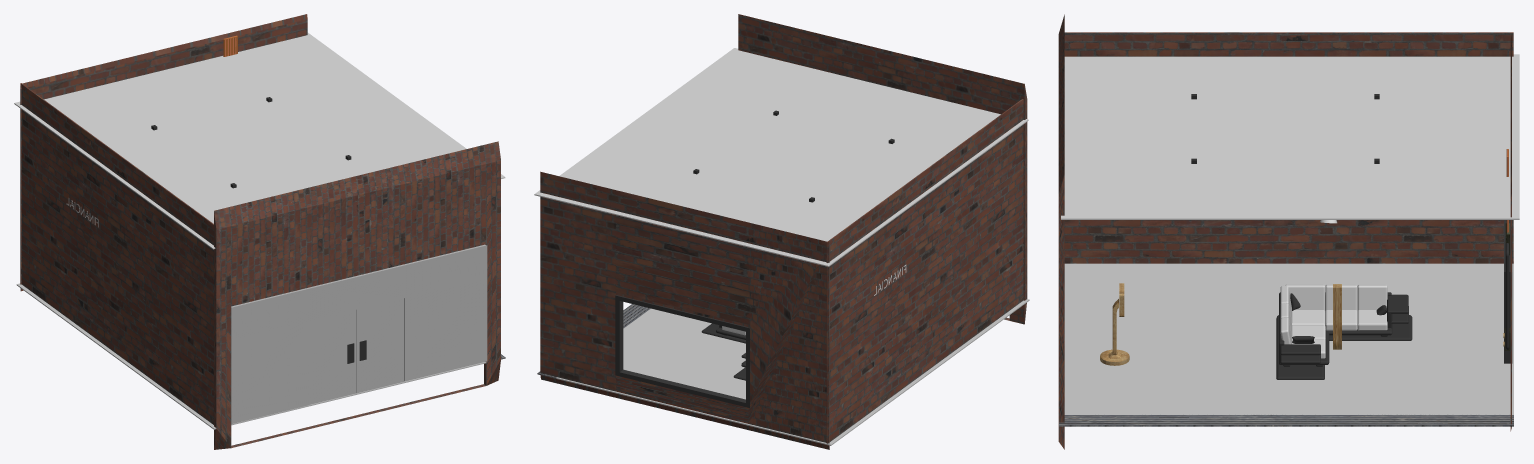
File: sync_store 1.fbx
The picture shows the model from 3 angles, left to right: view 1: azimuth 30°, elevation 25°; view 2: azimuth 150°, elevation 25°; view 3: azimuth 270°, elevation 25°; orthographic projection. The views are drawn at different scales.
Parts seen in each view (by area): view 1: pCube74, pCube71, front_wall, glass_door, pCube72, pCube75; view 2: pCube74, pCube72, pCube71, front_wall, pCube75, pCube77, couch_base; view 3: pCube74, pCube75, pCube71, floor_door, couches, couch_base, front_wall, pCube72, pCube77, pCylinder16, human_reference, polySurface5.
Part boxes in pixels (x1,y1,x2,y2): pCube74: (14,32,505,249); pCube71: (20,83,213,424); front_wall: (214,141,500,449); glass_door: (231,244,487,423); pCube72: (20,14,307,291); pCube75: (16,283,486,429); pCube74: (534,48,1028,266); pCube72: (540,171,829,449); pCube71: (826,99,1023,445); front_wall: (738,14,1027,324); pCube75: (556,299,1029,445); pCube77: (615,295,749,407); couch_base: (701,323,745,380); pCube74: (1061,54,1519,219); pCube75: (1064,261,1513,414); pCube71: (1064,32,1513,263); floor_door: (1059,414,1513,426); couches: (1280,284,1387,358); couch_base: (1276,292,1412,379); front_wall: (1058,14,1064,449); pCube72: (1510,34,1511,431); pCube77: (1504,220,1512,363); pCylinder16: (1100,299,1129,365); human_reference: (1333,284,1341,349); polySurface5: (1505,243,1509,349).
Bounding box in the file's own units: 11.17 × 8.73 × 13.22.
